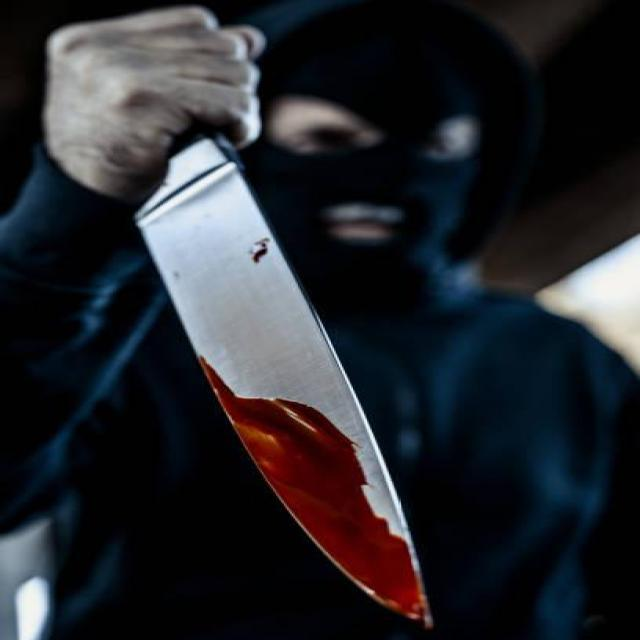faca: (41, 8, 488, 633)
